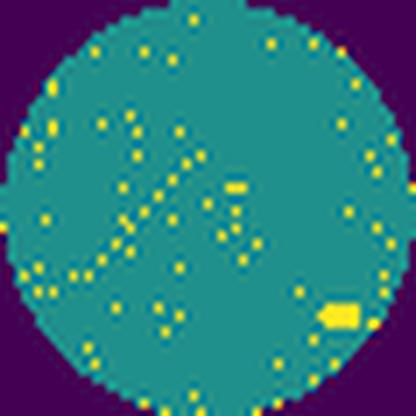Loc: (317, 300, 364, 332)
